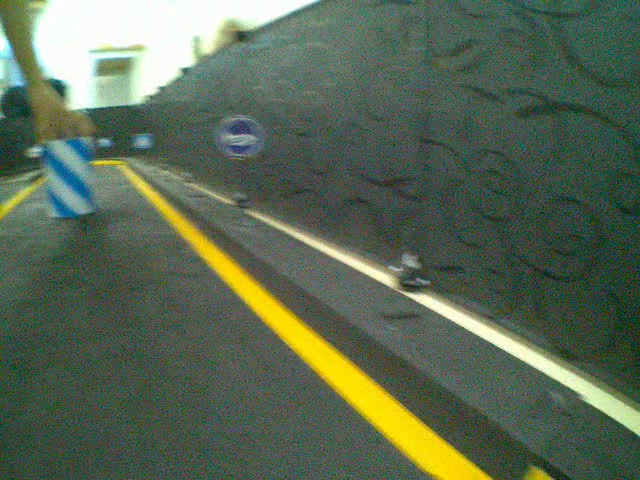bucket: (43, 132, 96, 220)
